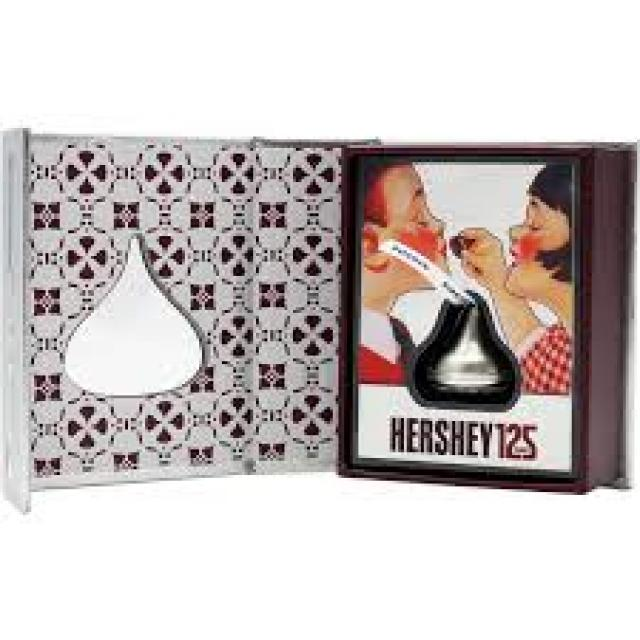kisses: (428, 300, 500, 402)
